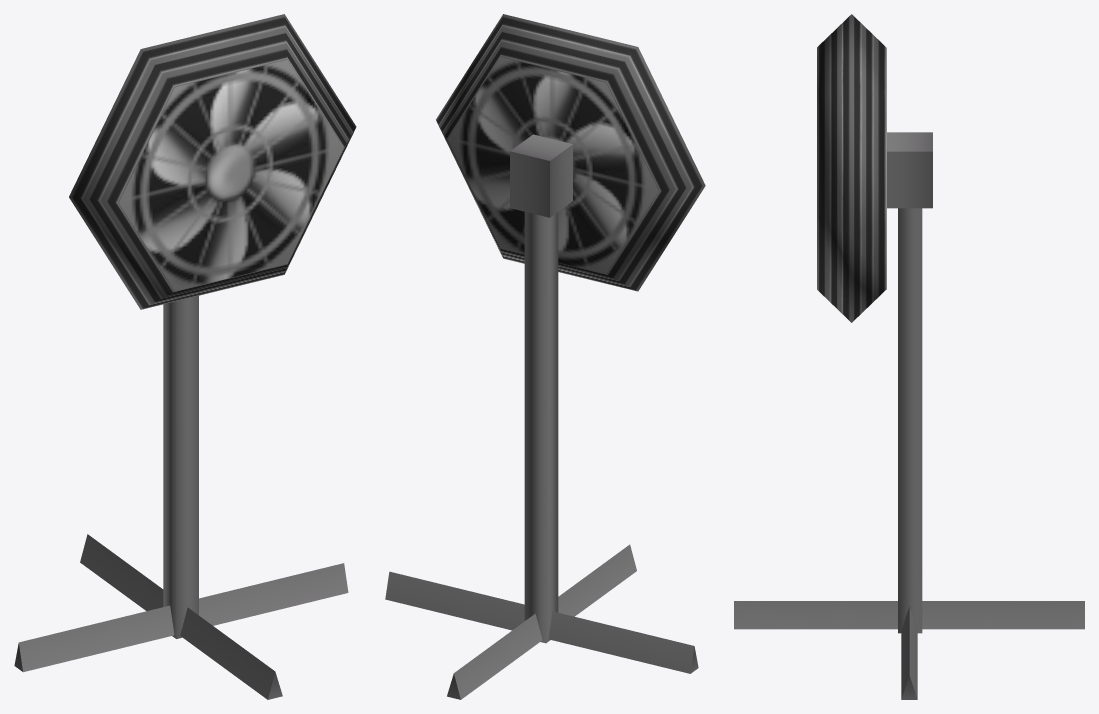
The model's file is StandingFan.fbx.
The picture shows the model from 3 angles, left to right: view 1: azimuth 30°, elevation 25°; view 2: azimuth 150°, elevation 25°; view 3: azimuth 270°, elevation 25°; orthographic projection. The views are drawn at different scales.
Visible parts, largest first — view 1: Maya_File_Assets:TexturedAssetsCurrent:standupFan; view 2: Maya_File_Assets:TexturedAssetsCurrent:standupFan; view 3: Maya_File_Assets:TexturedAssetsCurrent:standupFan.
Boxes of the visible parts, <box> form: Maya_File_Assets:TexturedAssetsCurrent:standupFan: <box>14,14,356,699</box>; Maya_File_Assets:TexturedAssetsCurrent:standupFan: <box>385,14,705,699</box>; Maya_File_Assets:TexturedAssetsCurrent:standupFan: <box>734,14,1084,699</box>.
Size of the model in its own units: 0.7732 by 1.41 by 0.7732.
